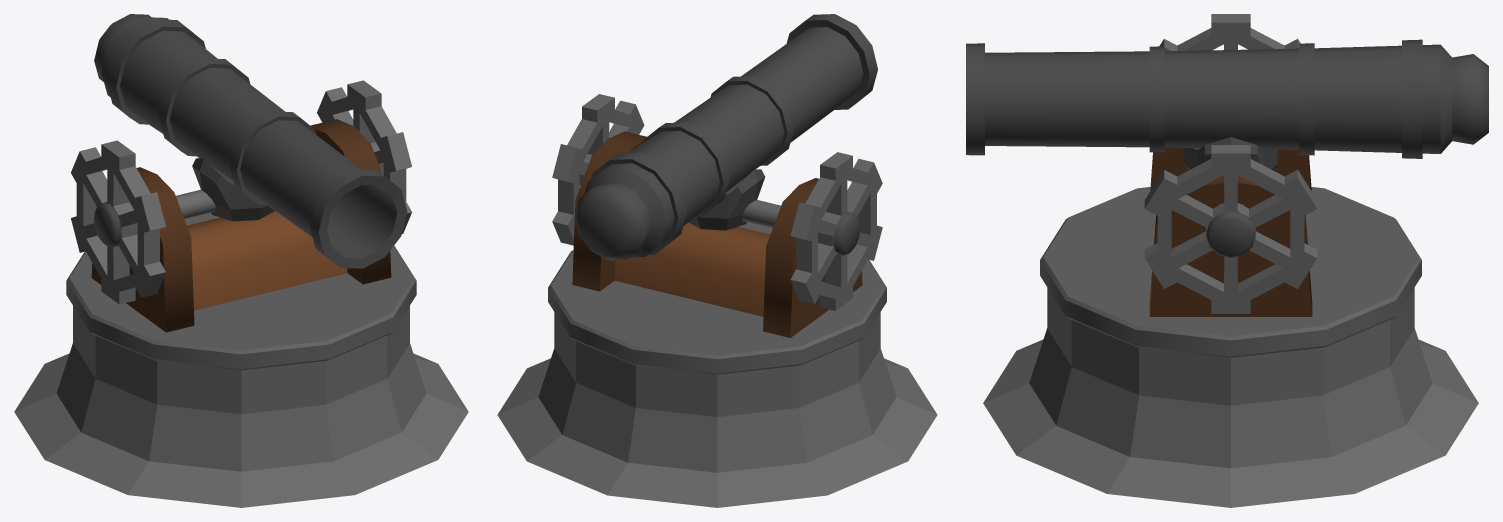
The model's file is Cannon_T2.fbx.
3 views of the same model, side by side, from view 1: azimuth 30°, elevation 25°; view 2: azimuth 150°, elevation 25°; view 3: azimuth 270°, elevation 25° (orthographic). The views are drawn at different scales.
Parts seen in each view (by area): view 1: CannonTowerBase_T2, CannonBody_T2, CannonTowerRotator_T2, CannonCogWheel_T2, CannonHolderBox_T2, CannonHolder_T2, CannonRotator_T2, HolderButton_T2, CannonVerticalRotator_T2; view 2: CannonTowerBase_T2, CannonBody_T2, CannonTowerRotator_T2, CannonCogWheel_T2, CannonHolderBox_T2, CannonHolder_T2, CannonRotator_T2, HolderButton_T2, CannonVerticalRotator_T2; view 3: CannonTowerBase_T2, CannonBody_T2, CannonTowerRotator_T2, CannonCogWheel_T2, CannonHolder_T2, HolderButton_T2, CannonRotator_T2.
Boxes of the visible parts, left/top/right/bottom form: CannonTowerBase_T2: left=14, top=306, right=468, bottom=507; CannonBody_T2: left=94, top=14, right=407, bottom=268; CannonTowerRotator_T2: left=66, top=212, right=416, bottom=370; CannonCogWheel_T2: left=71, top=80, right=411, bottom=304; CannonHolderBox_T2: left=187, top=211, right=347, bottom=310; CannonHolder_T2: left=91, top=119, right=391, bottom=332; CannonRotator_T2: left=192, top=158, right=274, bottom=221; HolderButton_T2: left=94, top=142, right=380, bottom=247; CannonVerticalRotator_T2: left=176, top=189, right=216, bottom=218; CannonTowerBase_T2: left=497, top=312, right=937, bottom=507; CannonBody_T2: left=575, top=14, right=877, bottom=260; CannonTowerRotator_T2: left=548, top=222, right=886, bottom=374; CannonCogWheel_T2: left=552, top=94, right=882, bottom=310; CannonHolderBox_T2: left=615, top=222, right=770, bottom=316; CannonHolder_T2: left=572, top=131, right=862, bottom=337; CannonRotator_T2: left=688, top=169, right=765, bottom=230; HolderButton_T2: left=583, top=153, right=860, bottom=255; CannonVerticalRotator_T2: left=741, top=200, right=780, bottom=228; CannonTowerBase_T2: left=983, top=287, right=1478, bottom=507; CannonBody_T2: left=966, top=39, right=1488, bottom=158; CannonTowerRotator_T2: left=1040, top=187, right=1421, bottom=357; CannonCogWheel_T2: left=1144, top=14, right=1317, bottom=313; CannonHolder_T2: left=1149, top=147, right=1312, bottom=316; HolderButton_T2: left=1206, top=203, right=1255, bottom=257; CannonRotator_T2: left=1184, top=137, right=1277, bottom=170.
Bounding box in the file's own units: 160 × 128 × 169.
